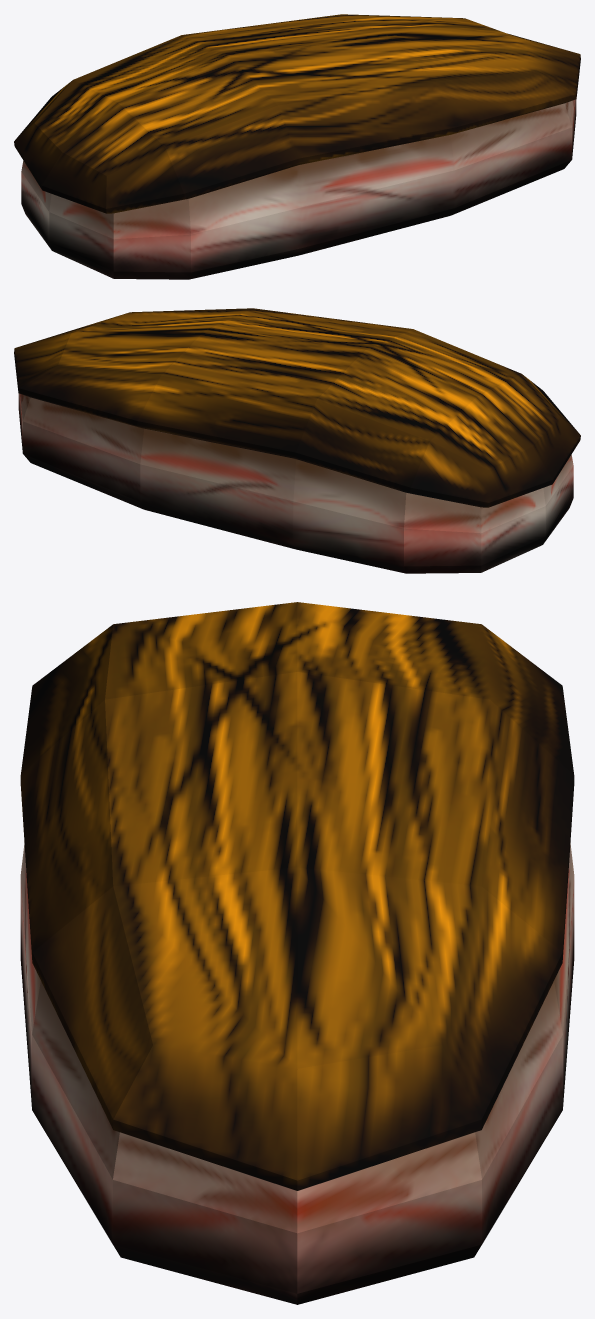
Rendered from UnityTierfett.fbx.
3 renders of one model, top to bottom at view 1: azimuth 30°, elevation 25°; view 2: azimuth 150°, elevation 25°; view 3: azimuth 270°, elevation 25°, orthographic. The views are drawn at different scales.
Parts seen in each view (by area): view 1: Cube; view 2: Cube; view 3: Cube.
Boxes of the visible parts, <box> form: Cube: <box>14,14,580,279</box>; Cube: <box>14,308,580,573</box>; Cube: <box>20,602,574,1304</box>.
Size of the model in its own units: 646 by 182 by 287.
